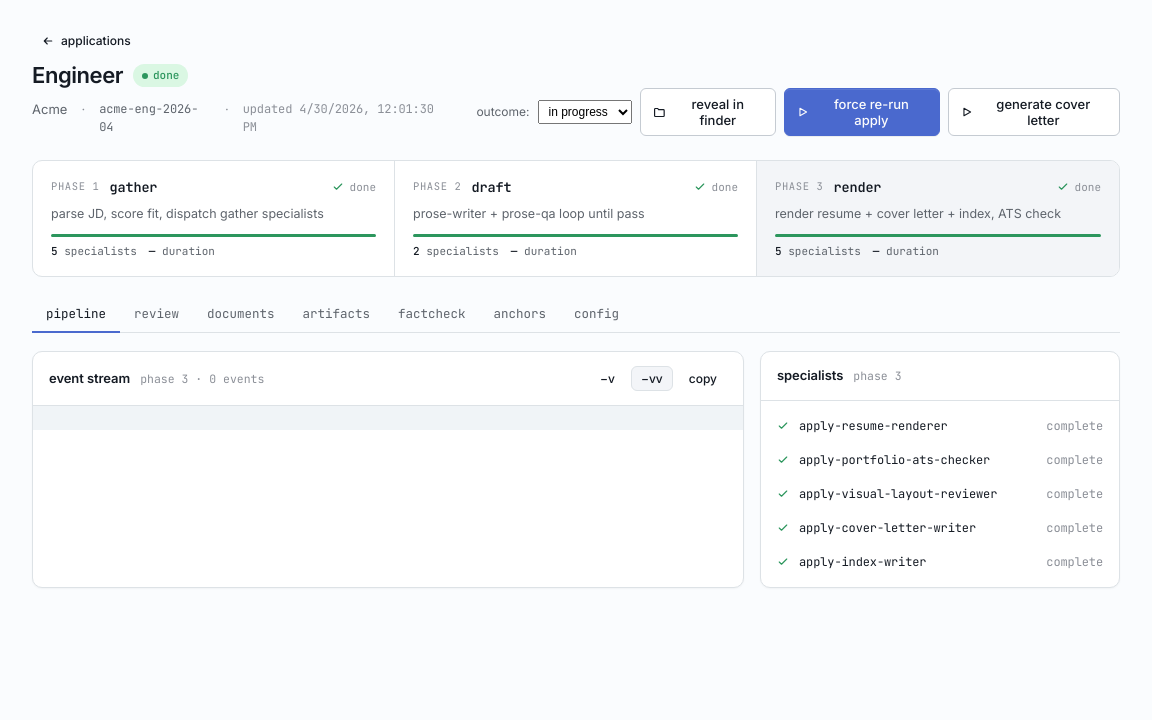
Scenario: ApplicationDetail anti-regression: no fabricated fixtures (feat-83d6cf54) › does not render any of the fabricated anchor IDs in the anchors tab
The width and height of the screenshot is (1152, 720).
Step 1. Click the text "anchors" → (520, 313), box [494,304,546,322]
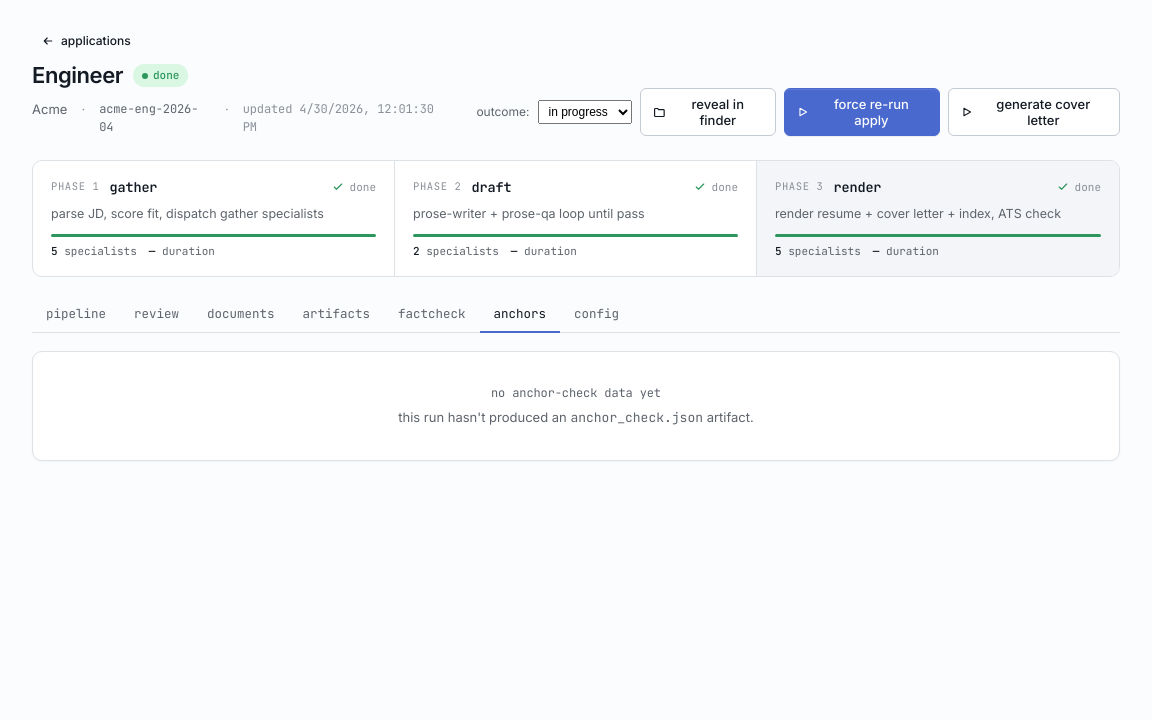
Now the text "no anchor-check data yet" is shown, box [491,385,661,401]
